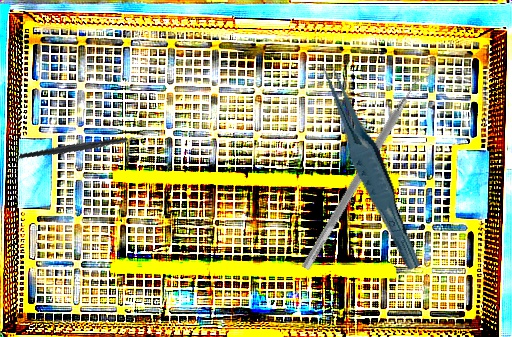Chopper: (18, 105, 148, 183)
Spatula Surgical: (301, 67, 432, 276)
Tissue Forceps: (318, 54, 423, 276)
